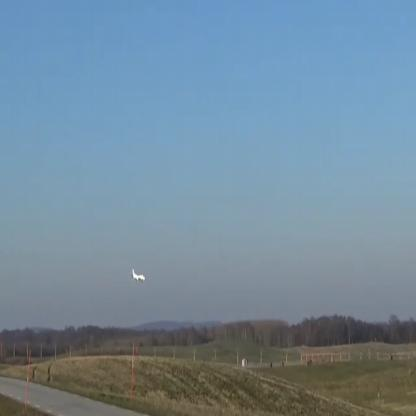CIV_Plane: (130, 267, 146, 283)
